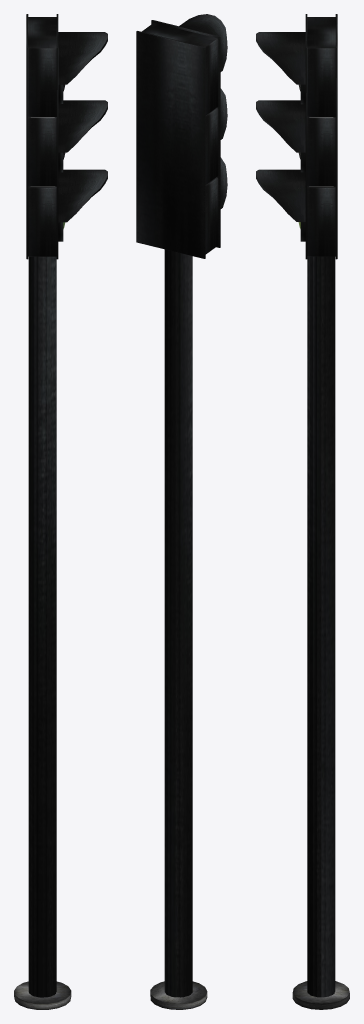
3 renders of one model, left to right at view 1: azimuth 90°, elevation 25°; view 2: azimuth 150°, elevation 25°; view 3: azimuth 270°, elevation 25°, orthographic.
Parts seen in each view (by area): view 1: Cylinder, Cube_2, Cube, Cube_1, Tube_1, Tube_5, Tube_3, Cylinder_1, Cube_5, Cube_4; view 2: Cylinder, Cube_5, Cube_2, Cylinder_1, Cube, Cube_1, Tube_5, Cube_4, Tube_1, Tube_3; view 3: Cylinder, Cube_2, Cube, Cube_1, Tube_1, Tube_5, Tube_3, Cylinder_1, Cube_5, Cube_4.
Part boxes in pixels (bbox=[...]): Cylinder: bbox=[28, 256, 56, 997]; Cube_2: bbox=[28, 17, 56, 116]; Cube: bbox=[28, 186, 56, 256]; Cube_1: bbox=[28, 117, 56, 186]; Tube_1: bbox=[58, 169, 107, 222]; Tube_5: bbox=[58, 32, 107, 84]; Tube_3: bbox=[58, 100, 107, 152]; Cylinder_1: bbox=[14, 981, 71, 1009]; Cube_5: bbox=[26, 14, 28, 259]; Cube_4: bbox=[56, 14, 58, 259]; Cylinder: bbox=[164, 249, 192, 997]; Cube_5: bbox=[136, 31, 205, 258]; Cube_2: bbox=[142, 23, 218, 115]; Cylinder_1: bbox=[150, 981, 207, 1009]; Cube: bbox=[205, 177, 218, 254]; Cube_1: bbox=[205, 107, 218, 184]; Tube_5: bbox=[179, 14, 227, 71]; Cube_4: bbox=[151, 20, 220, 247]; Tube_1: bbox=[220, 157, 227, 208]; Tube_3: bbox=[220, 88, 227, 139]; Cylinder: bbox=[307, 256, 335, 997]; Cube_2: bbox=[307, 17, 335, 116]; Cube: bbox=[307, 186, 335, 256]; Cube_1: bbox=[307, 117, 335, 186]; Tube_1: bbox=[256, 169, 305, 221]; Tube_5: bbox=[256, 32, 305, 84]; Tube_3: bbox=[256, 100, 305, 152]; Cylinder_1: bbox=[292, 981, 349, 1009]; Cube_5: bbox=[335, 14, 337, 259]; Cube_4: bbox=[305, 14, 307, 259].
Size of the model in its own units: 210 by 2806 by 246.
Materials: 4 (4 with a texture image).
